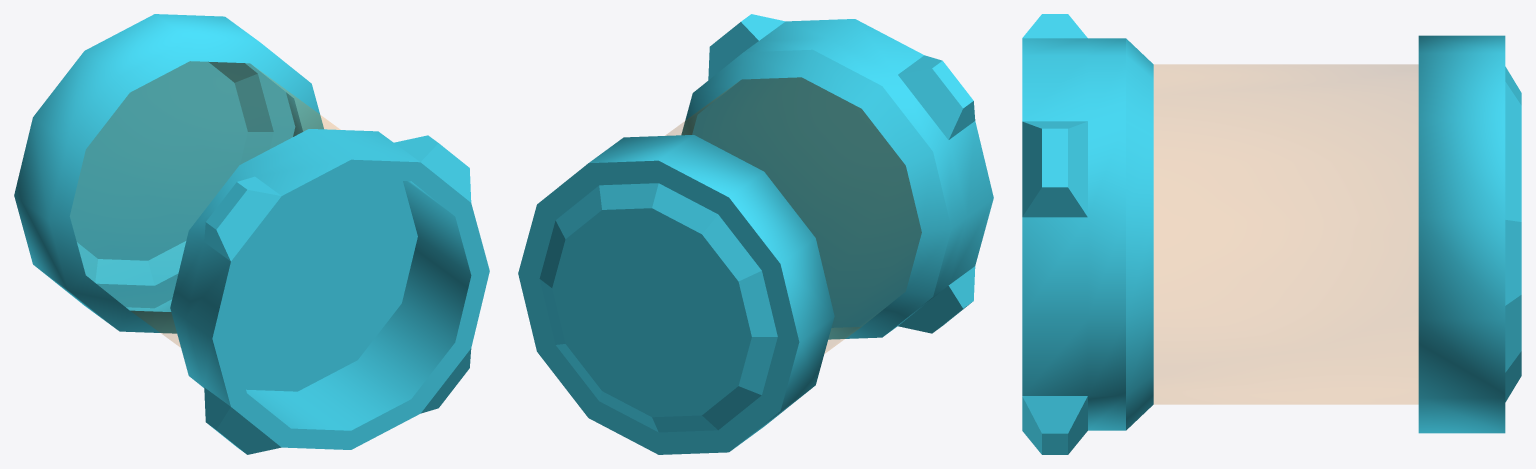
Rendered from pot.FBX.
3 renders of one model, left to right at view 1: azimuth 30°, elevation 25°; view 2: azimuth 150°, elevation 25°; view 3: azimuth 270°, elevation 25°, orthographic. The views are drawn at different scales.
Visible parts, largest first — view 1: Tube001_Tube001; view 2: Tube001_Tube001; view 3: Tube001_Tube001.
Boxes of the visible parts, x1,y1,x2,y2 form: Tube001_Tube001: (14, 14, 489, 454); Tube001_Tube001: (518, 14, 993, 454); Tube001_Tube001: (1022, 14, 1521, 454).
Size of the model in its own units: 30.41 by 30.41 by 38.03.
